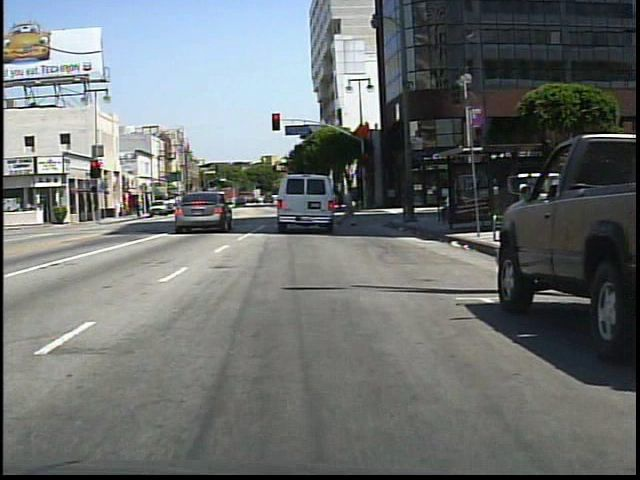person: (338, 182, 361, 229), (190, 192, 205, 218)
